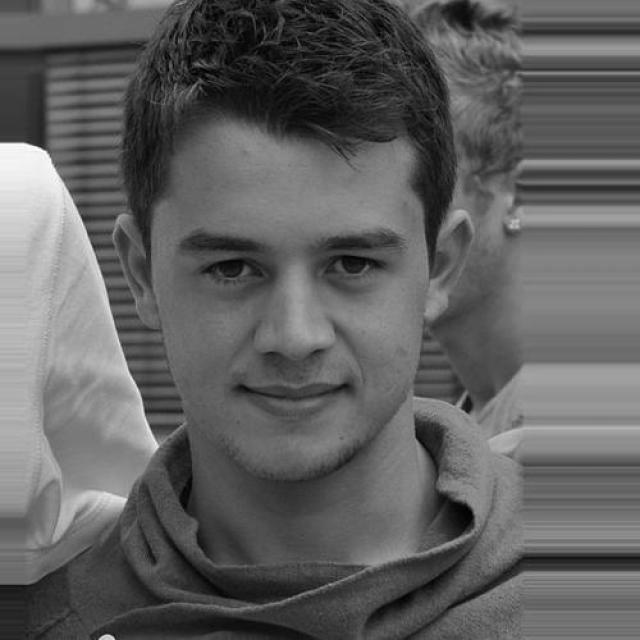real: (139, 120, 430, 481)
